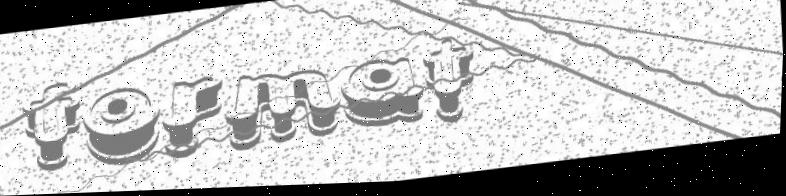a: (339, 56, 429, 135)
f: (20, 79, 89, 174)
m: (221, 64, 346, 156)
o: (78, 83, 165, 170)
r: (158, 75, 229, 163)
t: (419, 37, 481, 129)
